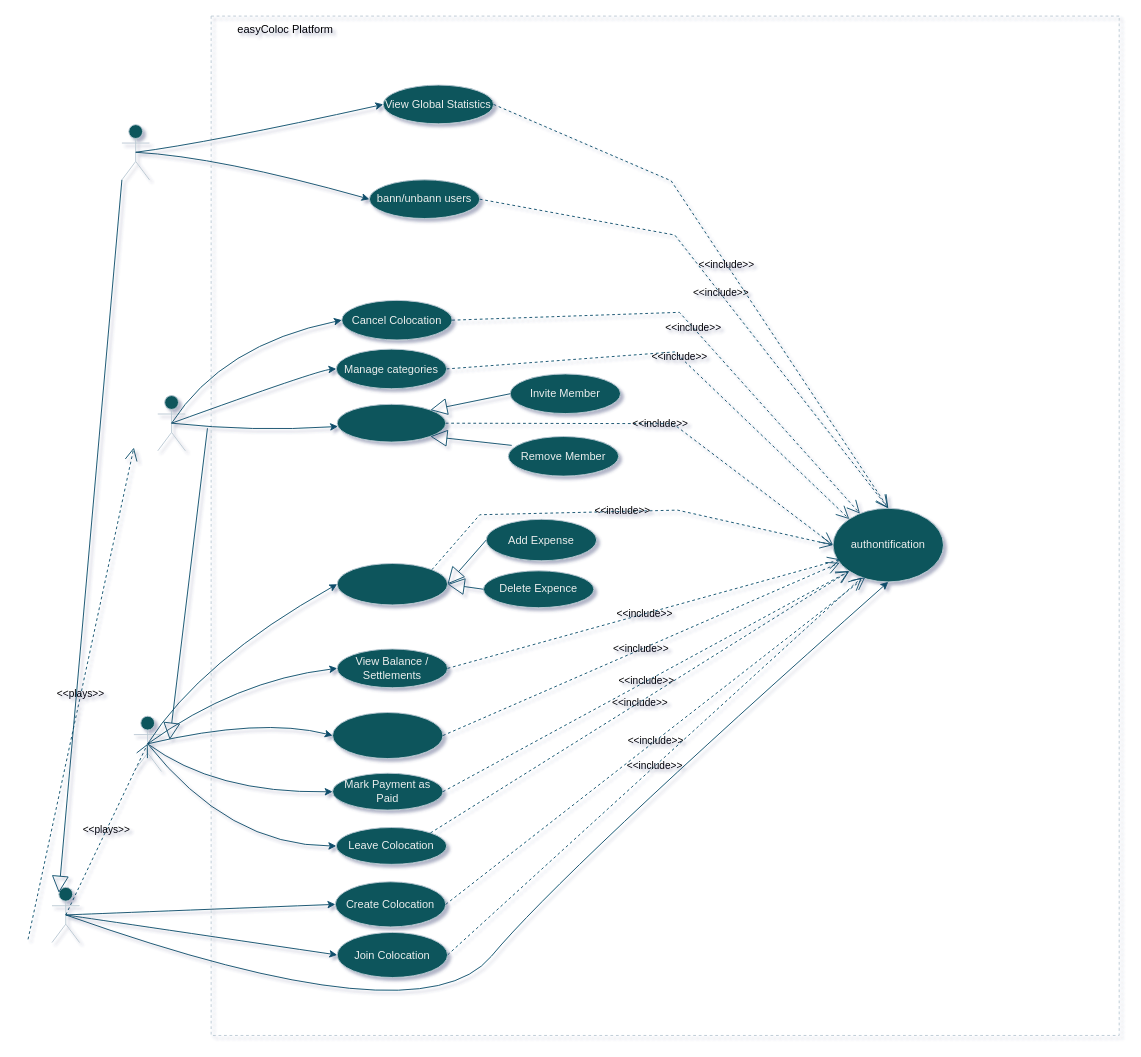
The diagram is 1141 pixels wide and 1057 high, and some of its shapes have lost their labels. Each missing label, with the box of its shape:
Admin: (121, 124, 150, 180)
Manage his Expences: (336, 563, 448, 605)
Manage Members: (336, 403, 446, 442)
Member: (133, 715, 161, 771)
Owner: (157, 395, 185, 451)
User: (51, 886, 80, 943)
View Expenses History: (332, 712, 443, 759)
